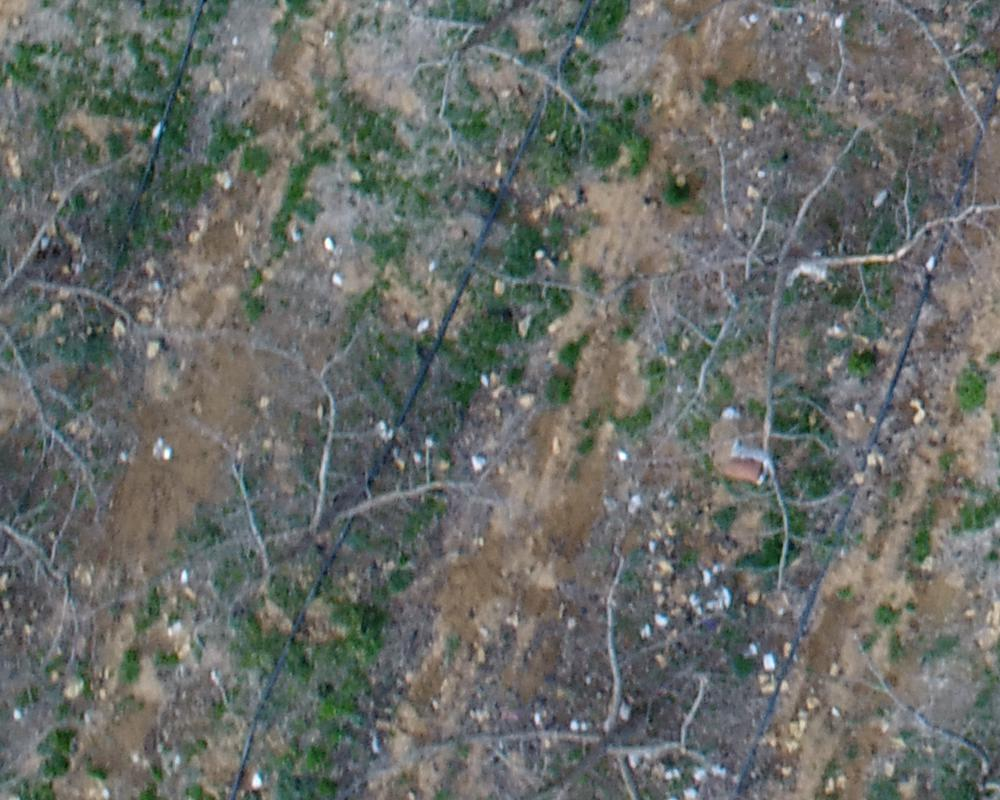apple: (457, 117, 990, 599), (94, 316, 499, 637), (307, 547, 763, 790), (10, 129, 187, 543), (360, 10, 637, 169), (673, 10, 990, 147)
